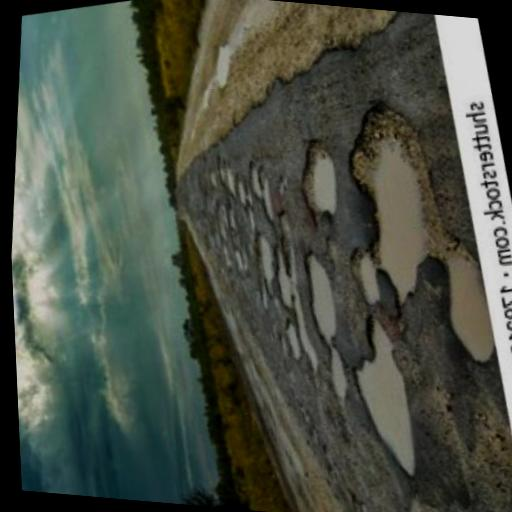pothole: (349, 111, 494, 363), (247, 163, 345, 399), (355, 322, 413, 476), (301, 141, 334, 215)
